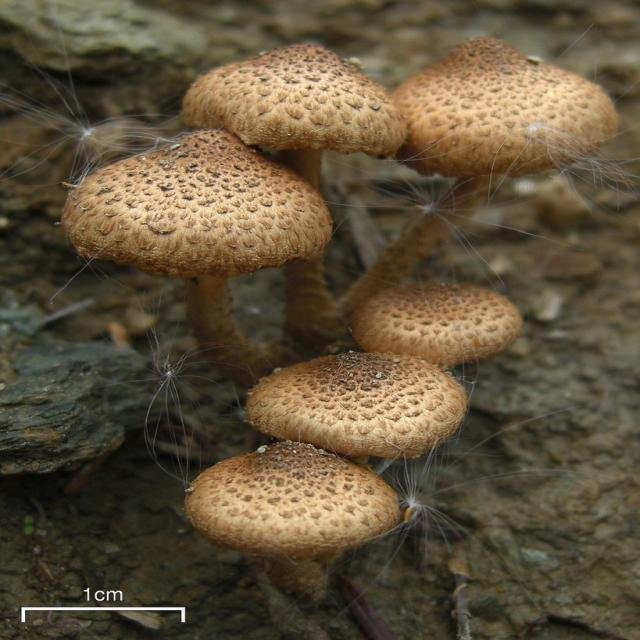Mushroom: (336, 31, 626, 324), (173, 41, 407, 337), (53, 126, 328, 377), (167, 436, 416, 564), (228, 346, 462, 473), (339, 274, 524, 353)
